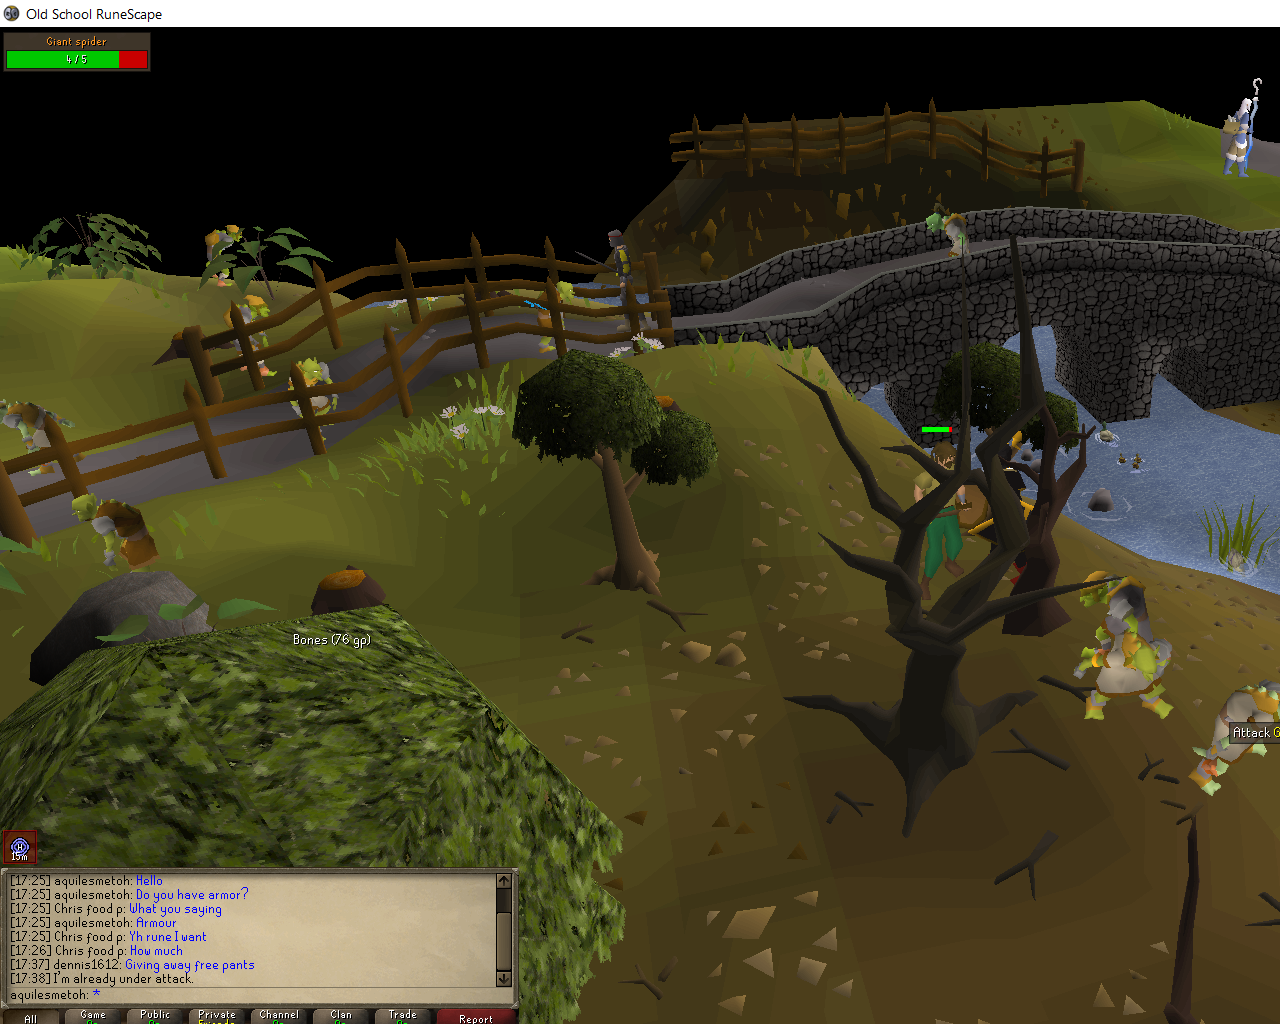Goblin: (1186, 674, 1280, 795), (1069, 569, 1167, 681), (1066, 632, 1181, 725), (65, 491, 170, 579), (1, 399, 87, 486), (282, 356, 351, 443), (225, 290, 282, 385), (195, 219, 242, 295), (920, 209, 979, 267)
